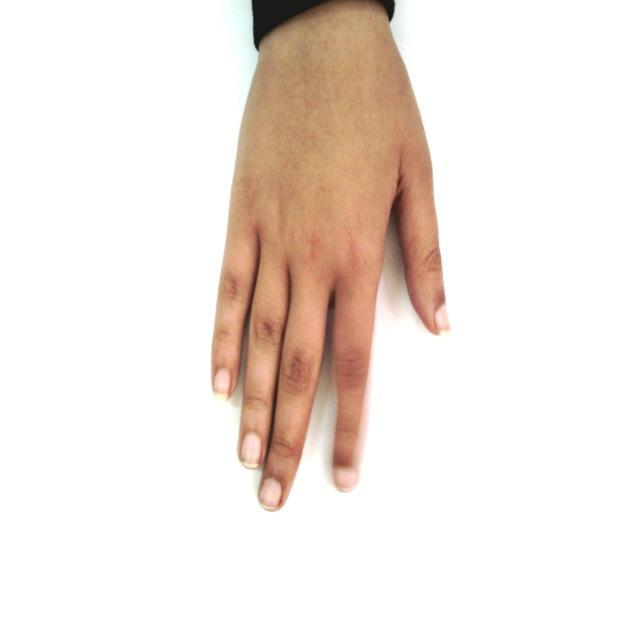Fingernail: (242, 433, 261, 467), (260, 479, 281, 508), (337, 469, 358, 492), (214, 370, 230, 398), (436, 306, 450, 333)
